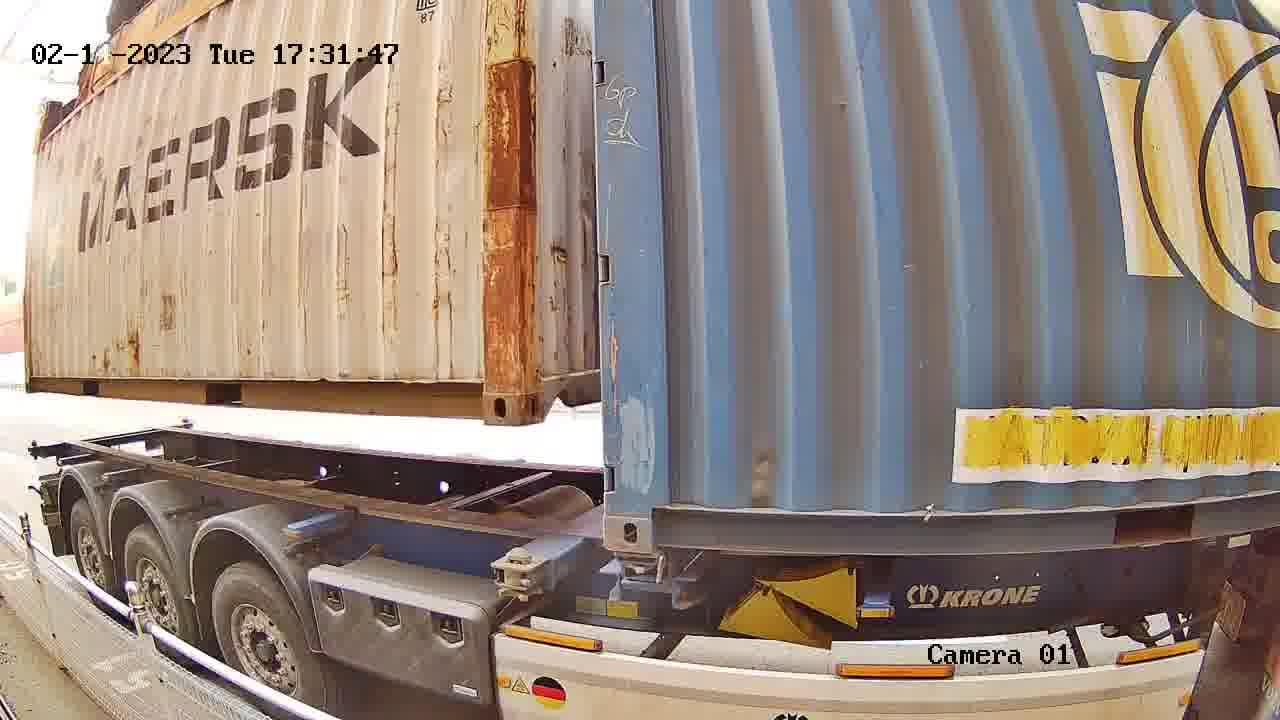Cone: (493, 548, 540, 601), (613, 553, 667, 585)
Hole_L: (603, 475, 696, 553), (518, 361, 576, 428)
Hole_R: (444, 364, 519, 425)
Tire: (211, 562, 323, 716), (123, 529, 196, 662), (70, 500, 115, 606)
